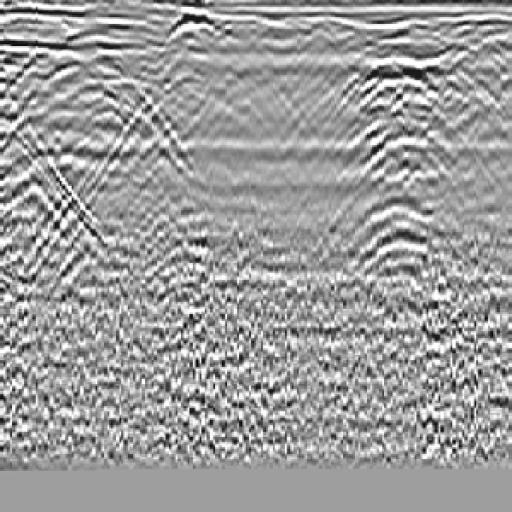non-metallic: (1, 16, 215, 297), (107, 8, 312, 270), (336, 31, 483, 303)
